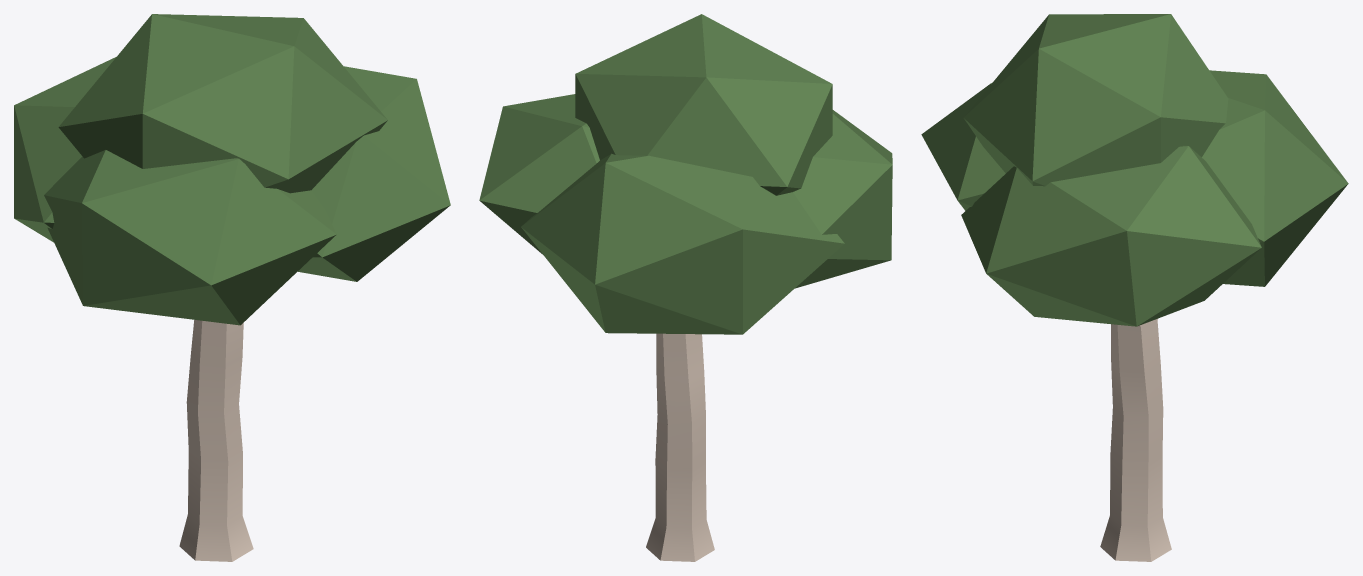
File: rubber_tree.fbx
The picture shows the model from 3 angles, left to right: view 1: azimuth 30°, elevation 25°; view 2: azimuth 150°, elevation 25°; view 3: azimuth 270°, elevation 25°; orthographic projection. The views are drawn at different scales.
Parts seen in each view (by area): view 1: leaves_4, leaves, leaves_3, trunk, leaves_2; view 2: leaves_2, leaves_4, trunk, leaves, leaves_3; view 3: leaves_3, leaves_4, leaves_2, trunk, leaves.
Boxes of the visible parts, x1,y1,x2,y2 form: leaves_4: (58,14,387,193); leaves: (44,150,336,325); leaves_3: (298,66,450,281); trunk: (179,320,253,561); leaves_2: (14,57,115,242); leaves_2: (521,153,844,334); leaves_4: (575,14,832,195); trunk: (646,333,714,561); leaves: (793,110,892,288); leaves_3: (479,94,599,254); leaves_3: (961,145,1261,326); leaves_4: (963,14,1228,186); leaves_2: (1202,70,1348,286); trunk: (1100,318,1171,561); leaves: (921,83,1005,210).
Bounding box in the file's own units: 5.65 × 7.53 × 5.69.
